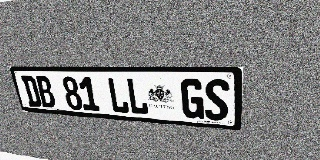1: (77, 77, 100, 111)
8: (61, 76, 83, 110)
B: (34, 76, 57, 108)
D: (20, 76, 42, 107)
G: (180, 79, 204, 119)
L: (106, 77, 130, 114), (126, 78, 149, 115)
S: (204, 79, 229, 121)
